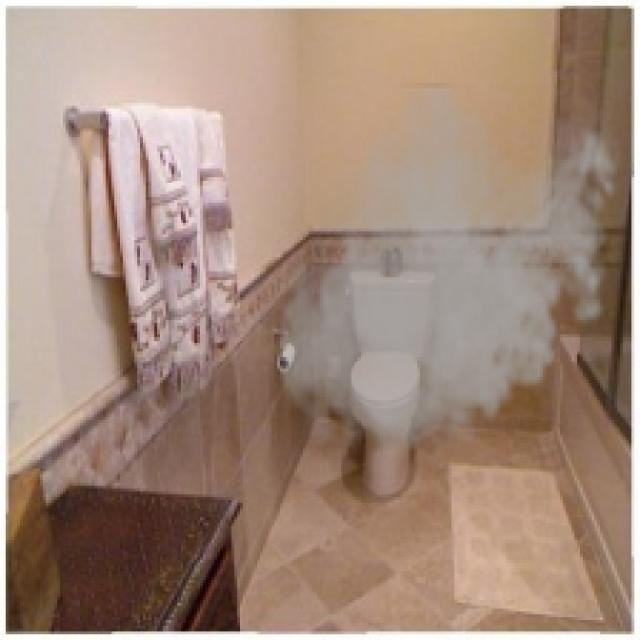smoke: (268, 83, 628, 471)
